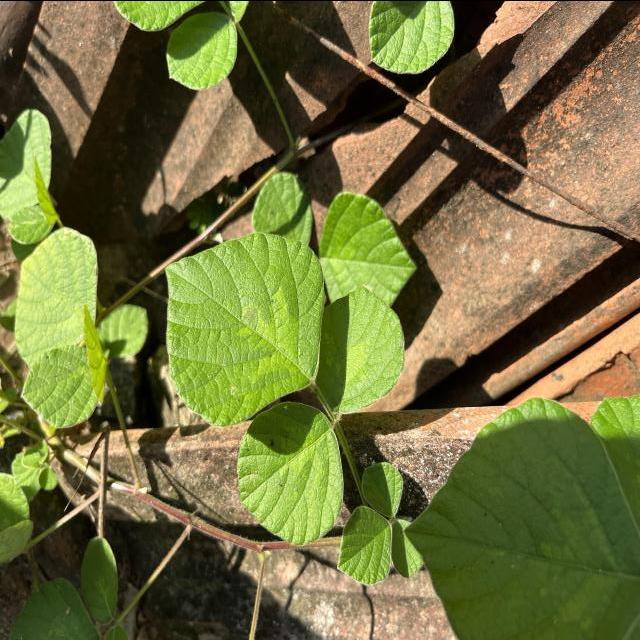Pseudarthria viscida: (164, 230, 408, 548)
